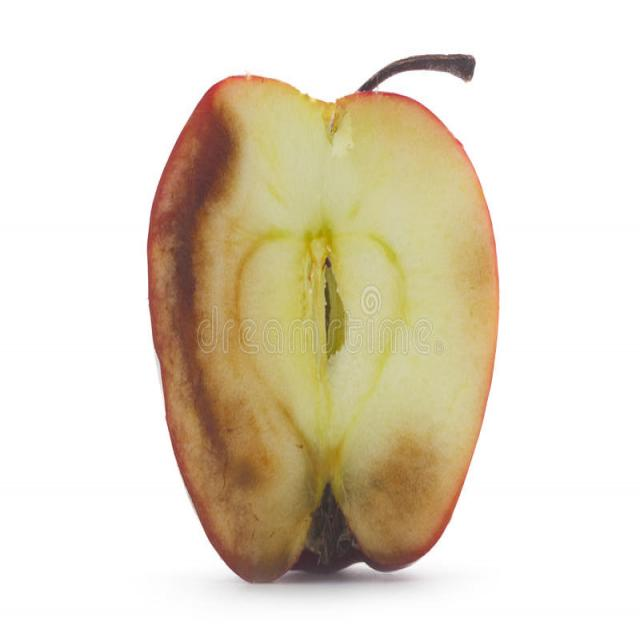Rotten: (138, 64, 498, 576)
